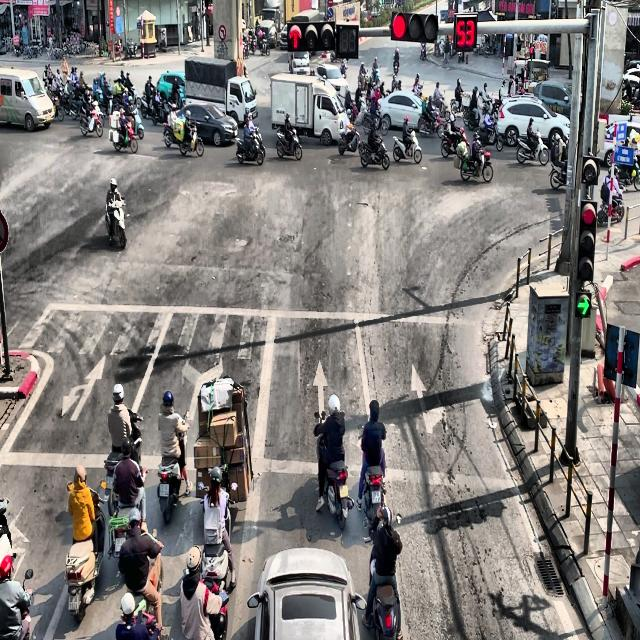CAR: (247, 546, 369, 640), (496, 97, 570, 149), (0, 65, 55, 131), (171, 102, 238, 146), (377, 90, 438, 132), (597, 120, 640, 166), (157, 70, 186, 108)
MOTORBIKE: (64, 482, 107, 623), (157, 411, 190, 525), (108, 464, 148, 558), (317, 436, 354, 529), (103, 409, 143, 495), (356, 424, 387, 533), (0, 498, 16, 580), (460, 145, 493, 183), (235, 125, 265, 165), (516, 130, 549, 166), (358, 135, 390, 170), (105, 198, 126, 249), (392, 129, 422, 164), (274, 125, 302, 161), (475, 115, 503, 151), (597, 188, 624, 224), (440, 126, 470, 158), (112, 119, 138, 154), (178, 123, 204, 157), (80, 104, 104, 137), (338, 122, 360, 155), (417, 109, 441, 135), (549, 160, 567, 190), (463, 107, 480, 130), (259, 36, 270, 56), (420, 42, 427, 61), (393, 59, 399, 74)
TRAFFIC_LIGHT: (577, 198, 597, 281), (287, 19, 336, 52), (389, 10, 438, 42), (453, 13, 478, 51), (581, 154, 600, 186)
TRUCK: (270, 72, 350, 146), (184, 57, 258, 126)
